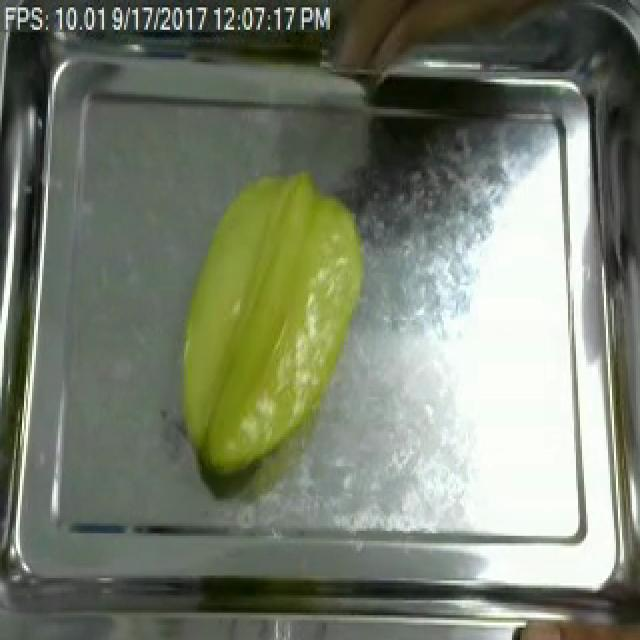fruit: (164, 154, 376, 494)
